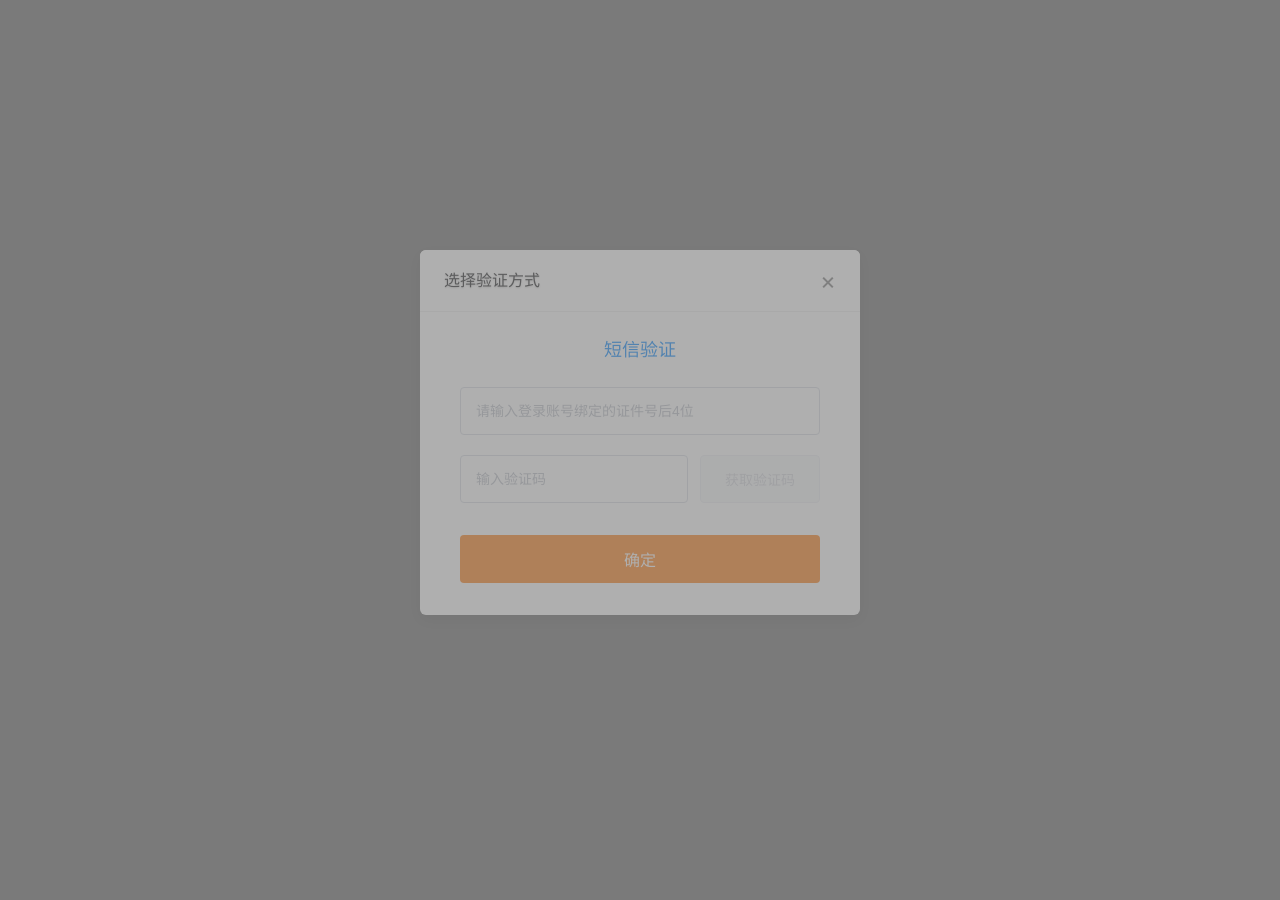
Test case: SmsVerificationModal - 登录短信验证 › 客户端验证 › 应该在验证码少于6位点击确认时显示"请输入正确的验证码"
The width and height of the screenshot is (1280, 900).
In the field with placeholder "请输入登录账号绑定的证件号后4位": (640, 413) [460,389,820,437], type "1234"
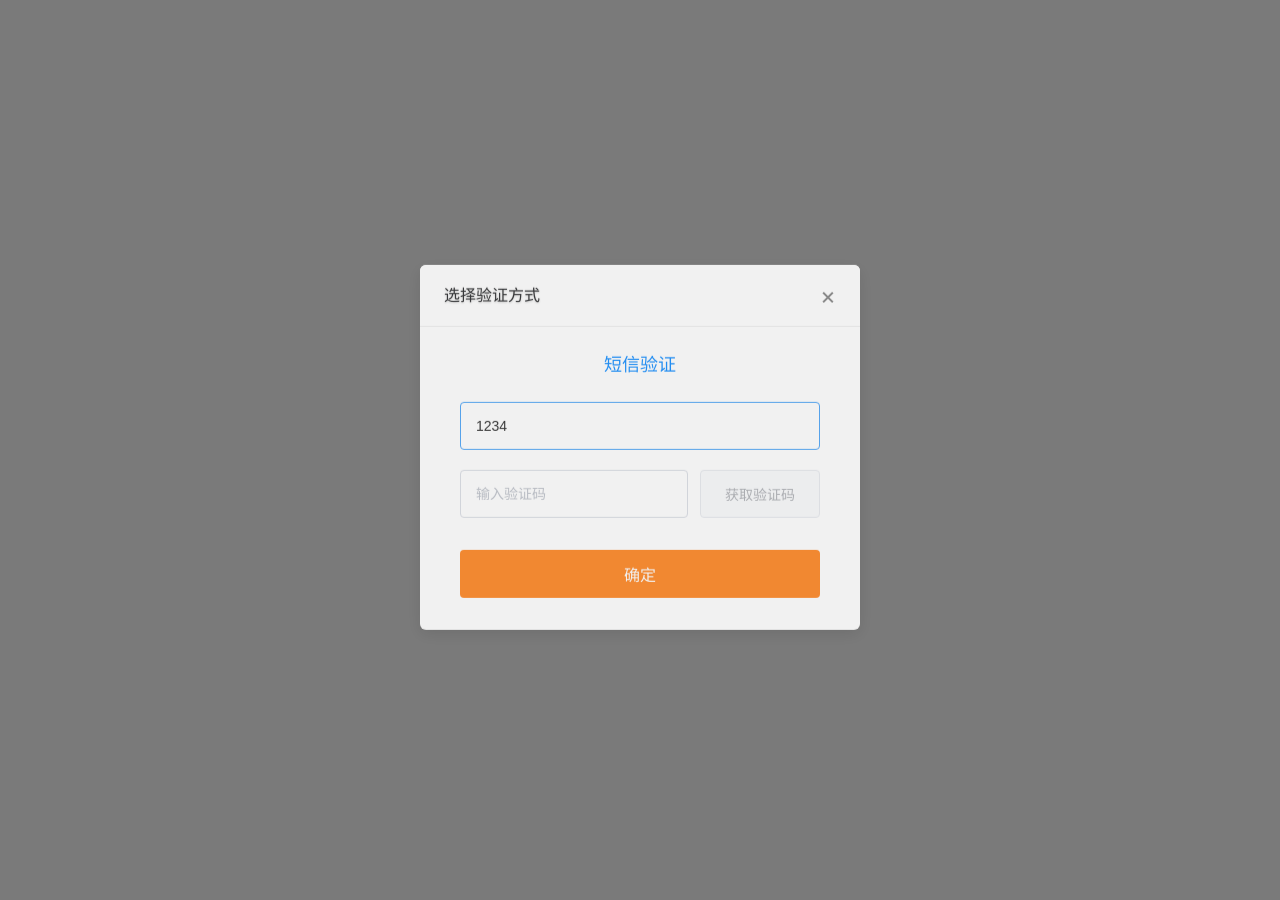
In the field with placeholder "输入验证码": (574, 495) [460,471,688,519], type "12345"
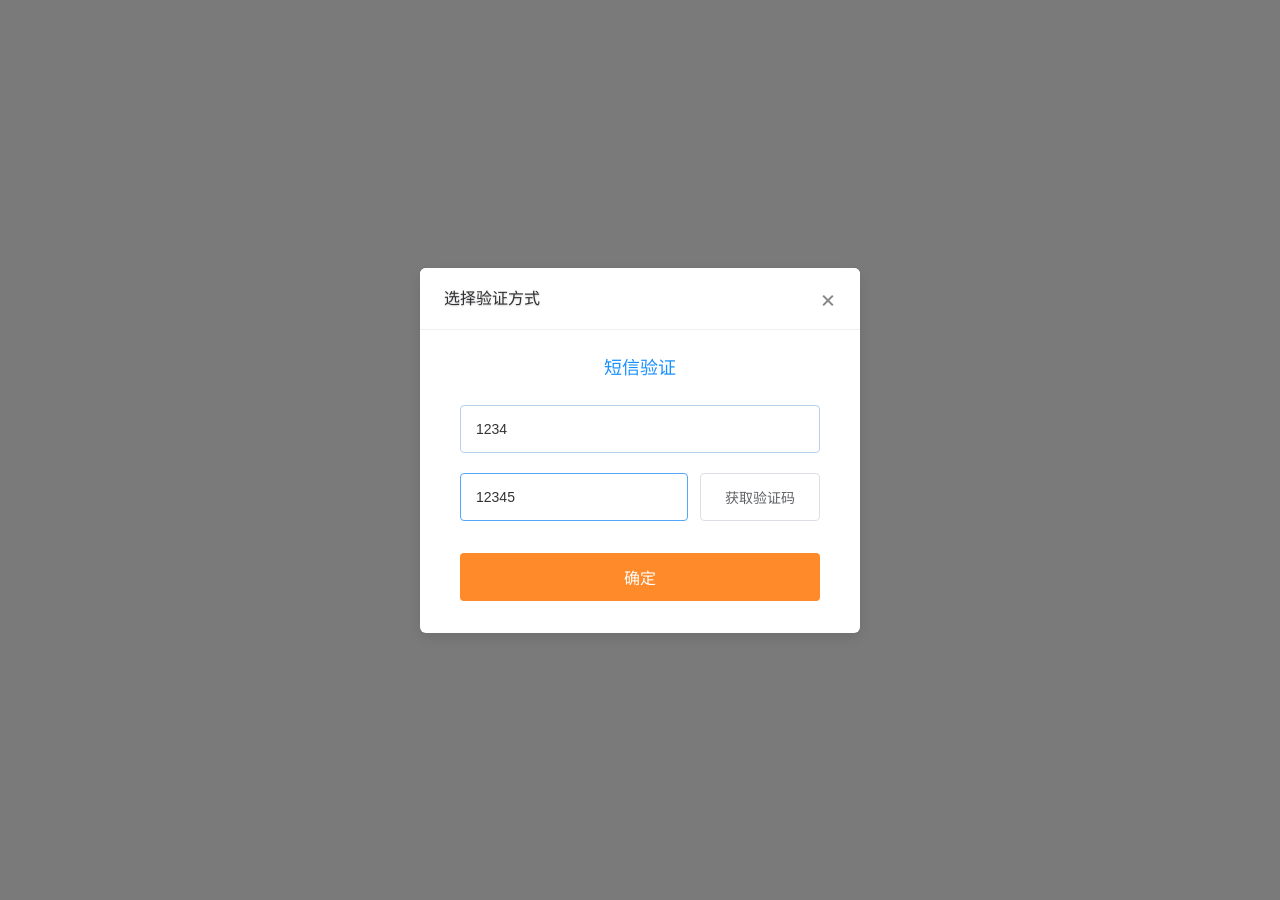
Click the button "确定": (640, 576) [460,552,820,600]
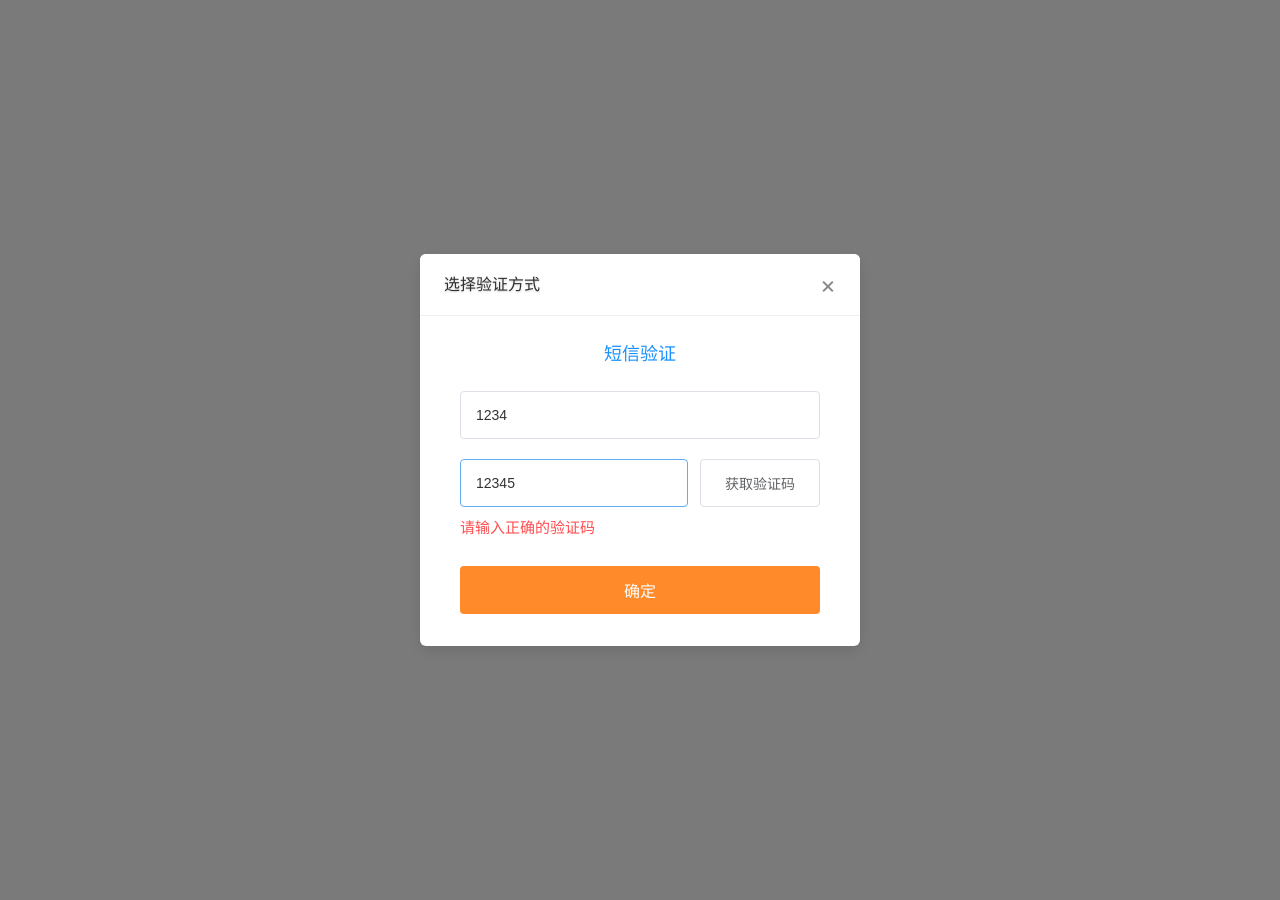
Expected: the text "请输入正确的验证码" is shown, [460,518,595,537]
